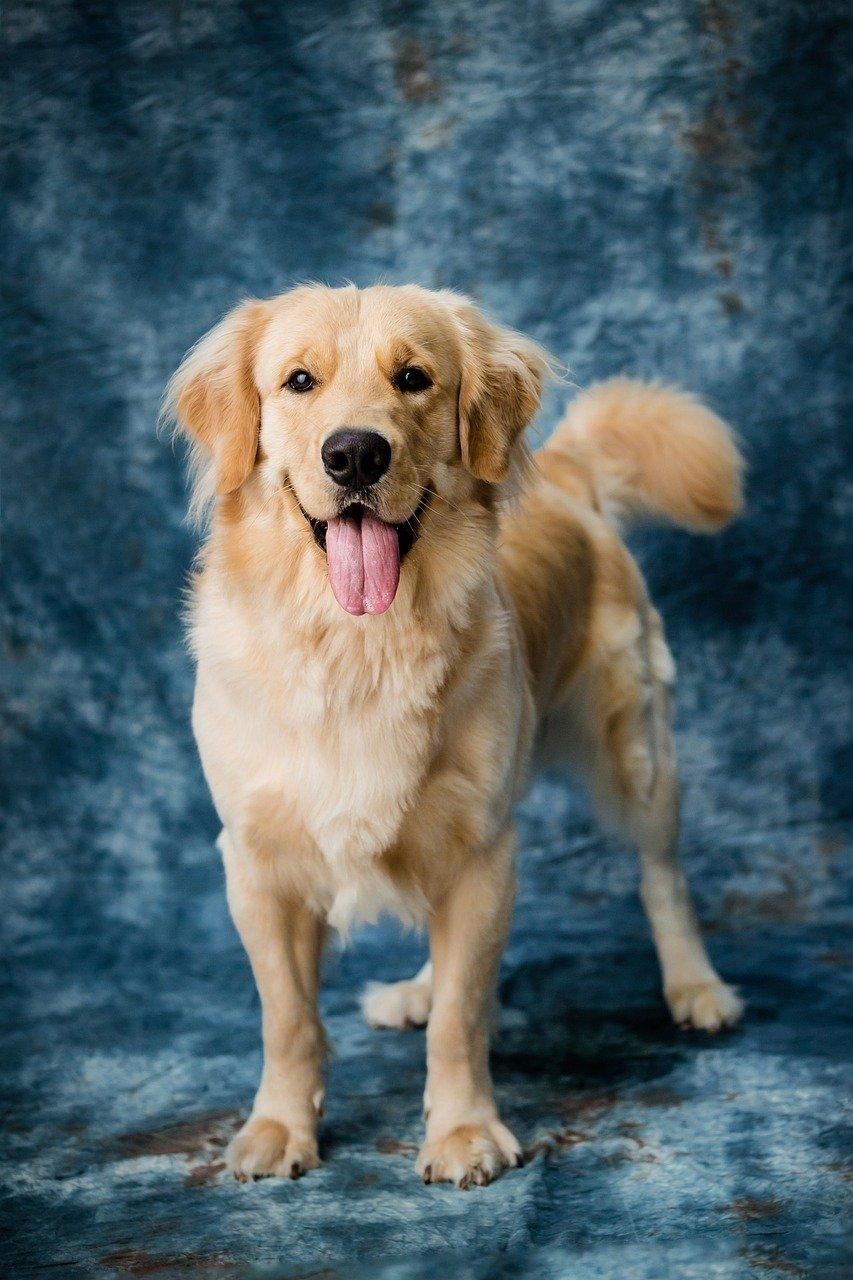DOG: (167, 277, 751, 1194)
